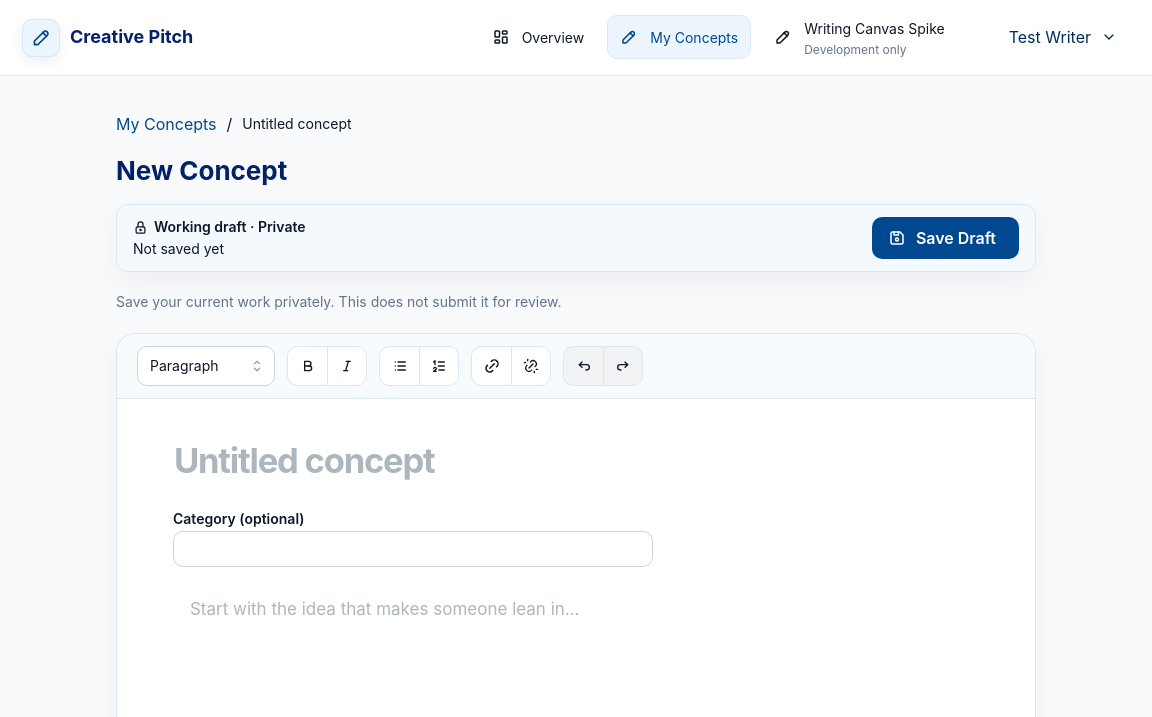
Test: does not replay an ambiguous create and warns before deliberate retry
The image size is (1152, 717).
Type "Unconfirmed" into the text box named "Concept title" at (576, 460), box [173, 439, 979, 482]
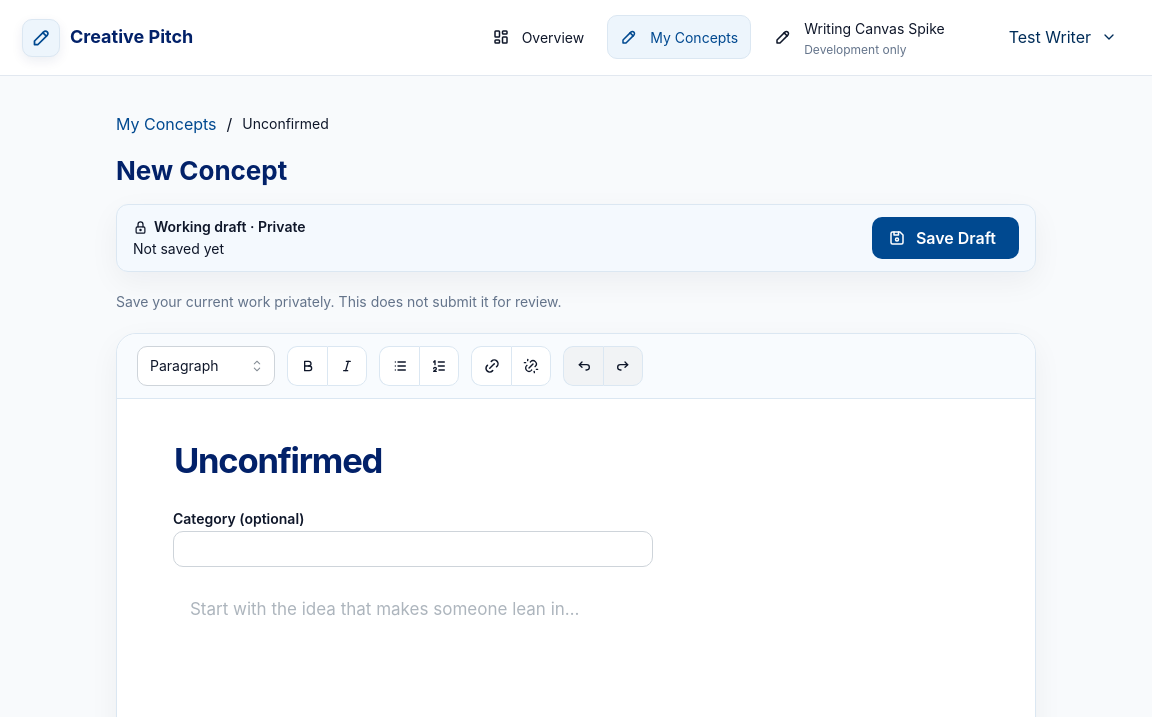
Click the button "Save Draft" at (946, 238), box [872, 217, 1019, 259]
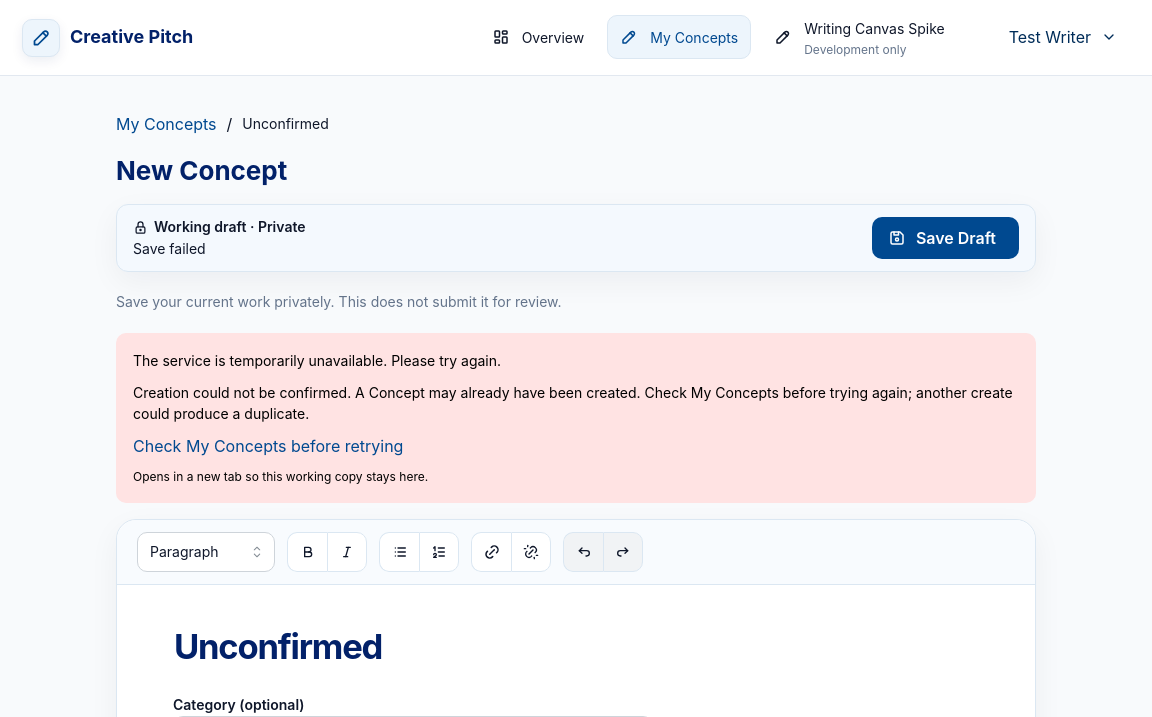
Result: the link "Check My Concepts before retrying" is shown at [133, 436, 403, 456]
Click the button "Save Draft" at (946, 238), box [872, 217, 1019, 259]
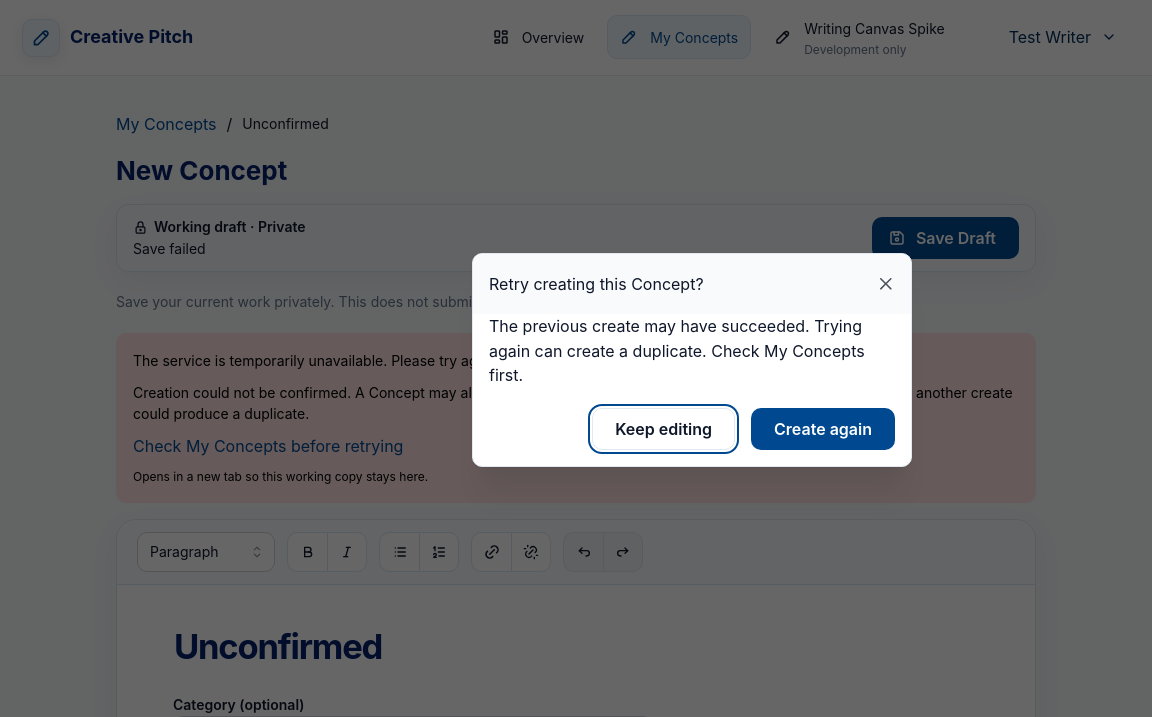
Result: the dialog shows "Trying again can create a duplicate" at [489, 316, 865, 385]
